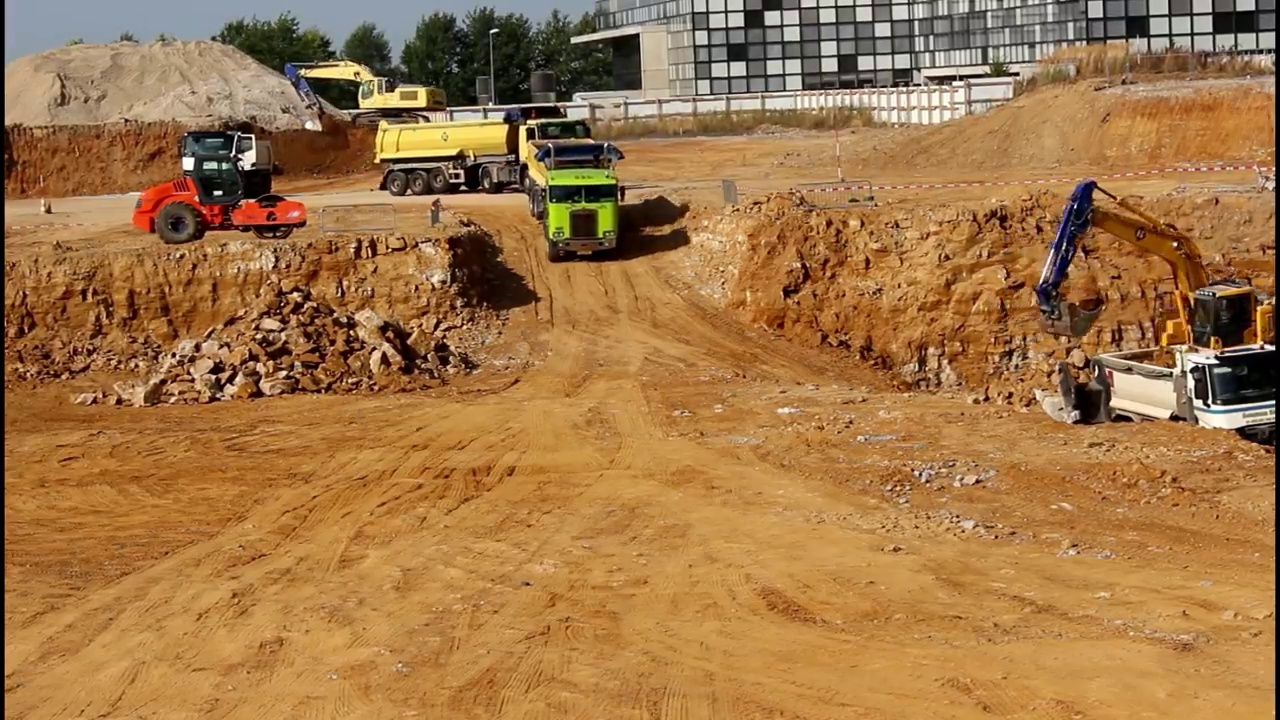compactor: (130, 154, 312, 243)
excavator: (1028, 176, 1280, 406), (283, 52, 452, 137)
truck: (1080, 334, 1280, 468), (367, 106, 594, 188), (521, 134, 636, 265), (178, 114, 284, 213)
